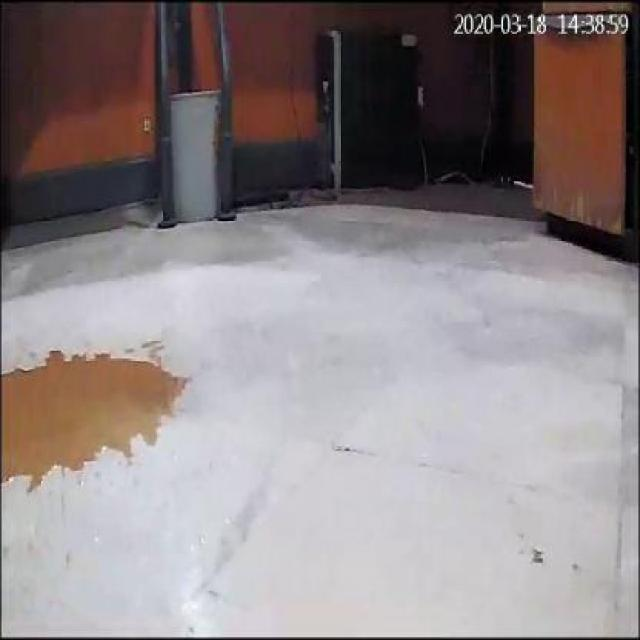spill: (1, 348, 184, 496)
